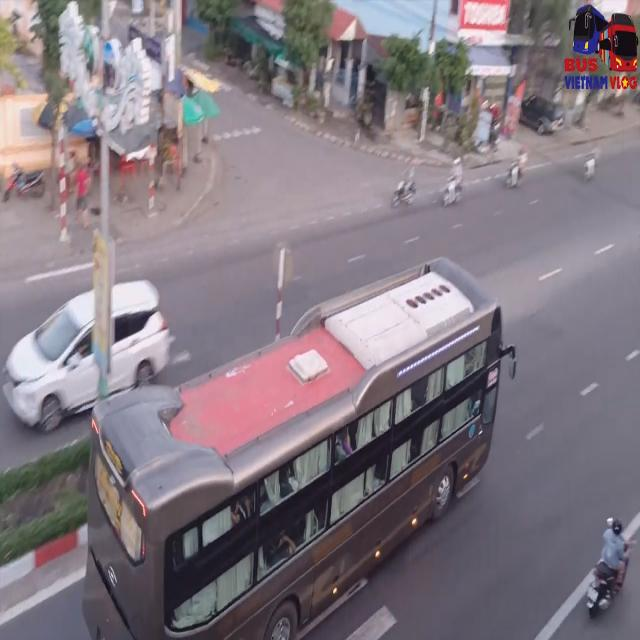bus: (86, 268, 500, 636)
car: (4, 284, 172, 425)
motorbike: (576, 514, 634, 621)
